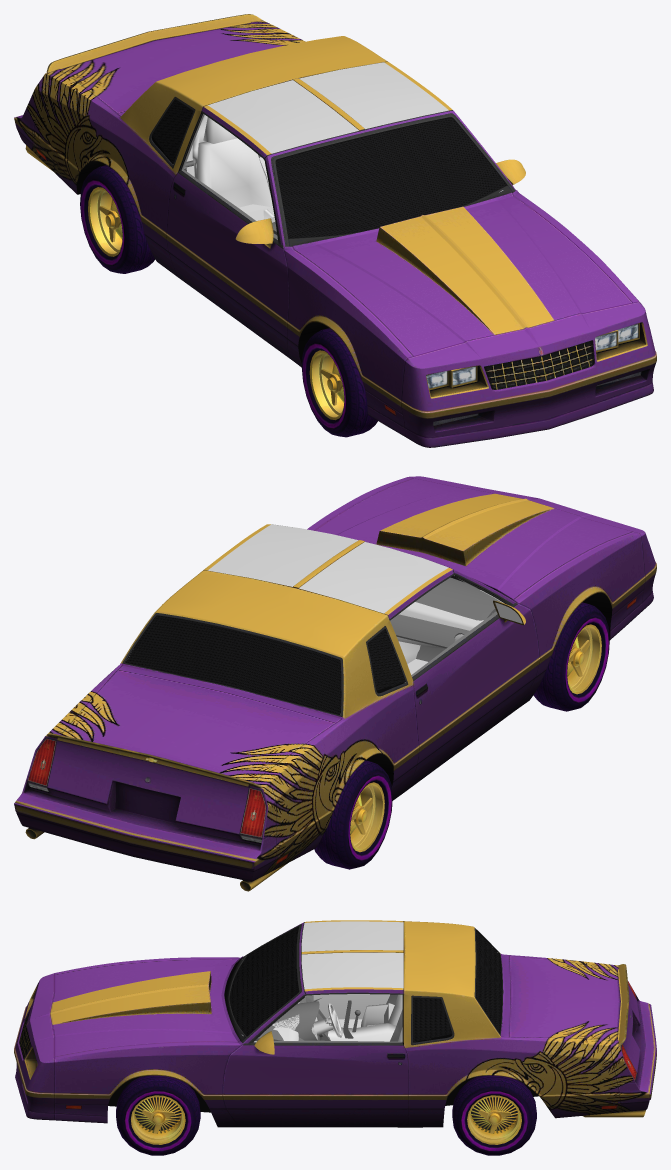
Rendered from AILowrider.fbx.
3 views of the same model, one above another, from view 1: azimuth 30°, elevation 25°; view 2: azimuth 150°, elevation 25°; view 3: azimuth 270°, elevation 25° (orthographic). The views are drawn at different scales.
Visible parts, largest first — view 1: Lowrider_body, Lowrider_Glasses, Lowrider_GlassTop, Wheel_Rear_Right, Wheel_Front_Right, interior_lo; view 2: Lowrider_body, Lowrider_Glasses, Lowrider_GlassTop, Wheel_Rear_Right, Wheel_Front_Right, Lowrider_interior, interior_lo; view 3: Lowrider_body, Lowrider_Glasses, Lowrider_GlassTop, Wheel_Rear_Left, Wheel_Front_Left, interior_lo, Lowrider_interior, lowrider_seats.
Part boxes in pixels (x1,y1,x2,y2): Lowrider_body: [14, 14, 656, 447]; Lowrider_Glasses: [151, 99, 506, 238]; Lowrider_GlassTop: [208, 62, 448, 153]; Wheel_Rear_Right: [80, 165, 155, 273]; Wheel_Front_Right: [301, 328, 377, 437]; interior_lo: [186, 117, 503, 222]; Lowrider_body: [14, 476, 656, 891]; Lowrider_Glasses: [126, 575, 463, 714]; Lowrider_GlassTop: [208, 524, 448, 613]; Wheel_Rear_Right: [314, 760, 392, 869]; Wheel_Front_Right: [533, 602, 609, 711]; Lowrider_interior: [390, 575, 501, 676]; interior_lo: [129, 575, 504, 682]; Lowrider_body: [14, 920, 656, 1127]; Lowrider_Glasses: [229, 927, 501, 1042]; Lowrider_GlassTop: [301, 921, 403, 989]; Wheel_Rear_Left: [452, 1075, 536, 1155]; Wheel_Front_Left: [116, 1075, 200, 1155]; interior_lo: [242, 952, 497, 1042]; Lowrider_interior: [255, 995, 402, 1042]; lowrider_seats: [361, 1004, 388, 1027].
Size of what is drawn, in the model's own units: 2.15 by 1.49 by 5.42.
